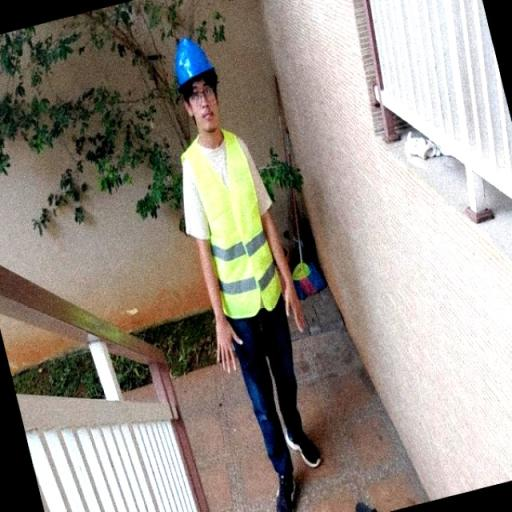Person: (150, 31, 352, 492)
goggles: (180, 82, 224, 106)
helmet: (170, 34, 219, 88)
vest: (180, 128, 289, 318)
